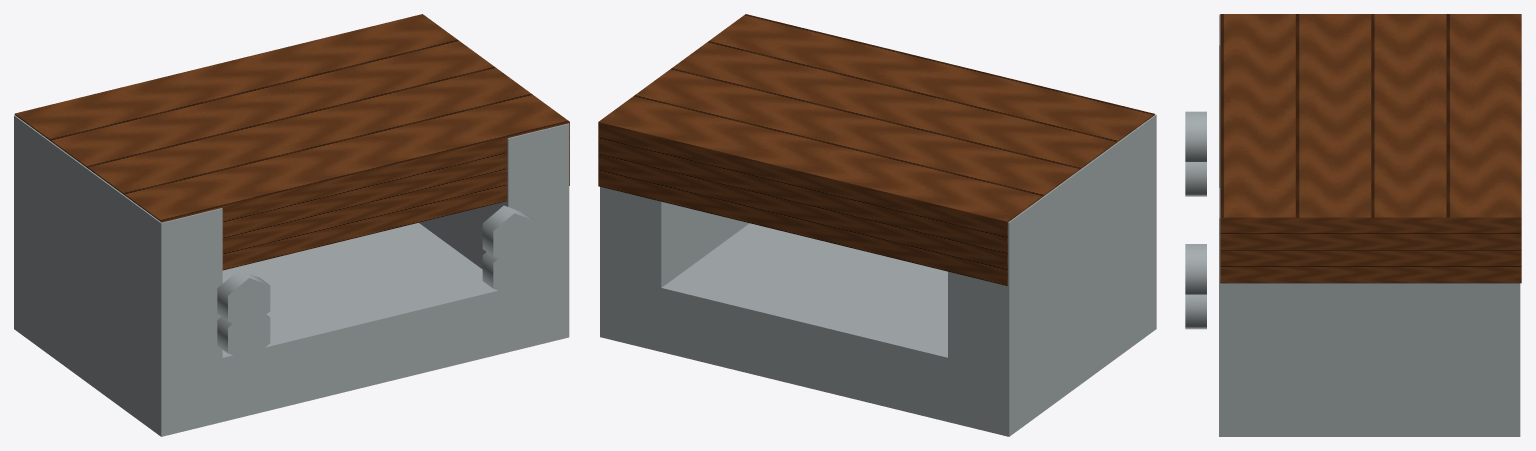
Rendered from modular-survival-base-builder-beam-saddle-857dd975__24254.glb.
3 renders of one model, left to right at view 1: azimuth 30°, elevation 25°; view 2: azimuth 150°, elevation 25°; view 3: azimuth 270°, elevation 25°, orthographic. The views are drawn at different scales.
Visible parts, largest first — view 1: beam-saddle; view 2: beam-saddle; view 3: beam-saddle.
Boxes of the visible parts, x1,y1,x2,y2 form: beam-saddle: [14, 14, 569, 436]; beam-saddle: [598, 14, 1156, 436]; beam-saddle: [1185, 14, 1521, 436].
Bounding box in the file's own units: 0.4012 × 0.2012 × 0.2792.
2 materials, 1 textured.
